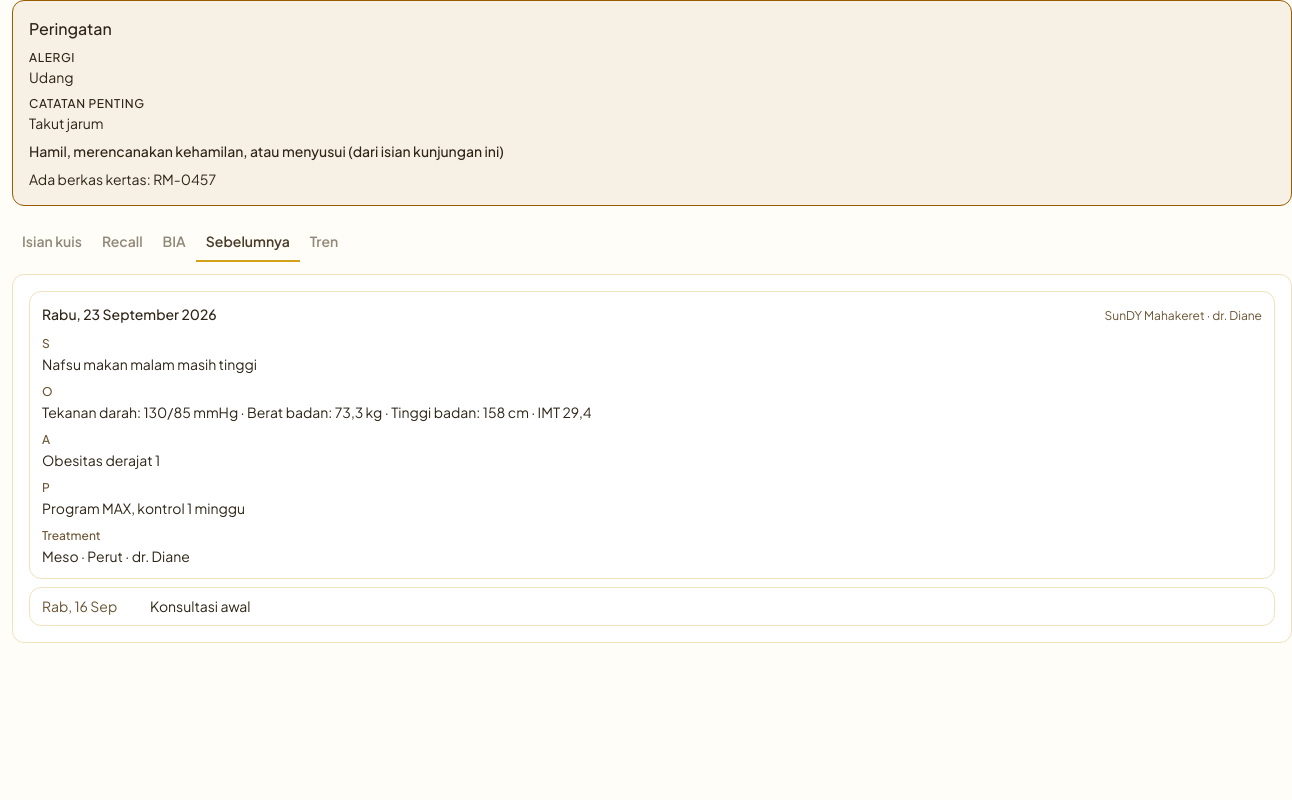
EncounterContextPanel › tanpa isian tetapi ada riwayat: tab Sebelumnya terbuka dengan kunjungan terbaru lengkap
Check: the text "Program MAX, kontrol 1 minggu" is shown, box [42,499,245,517]
Check: the text "Meso · Perut · dr. Diane" is shown, box [42,547,190,565]
Click the button "Rab, 16 Sep Konsultasi awal" at (80, 606), box [29,587,1275,626]
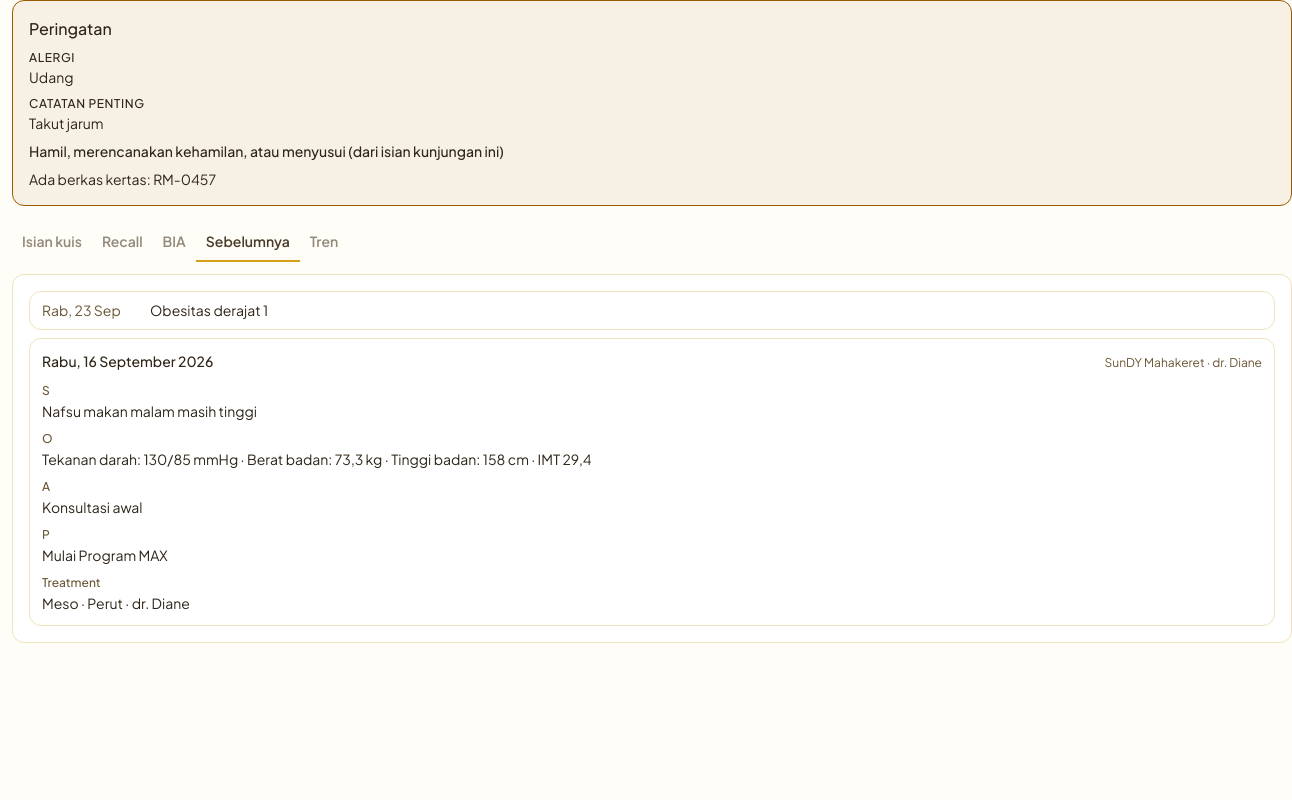
Check: the text "Mulai Program MAX" is shown, box [42,546,168,564]
Check: the text "Program MAX, kontrol 1 minggu" is gone
